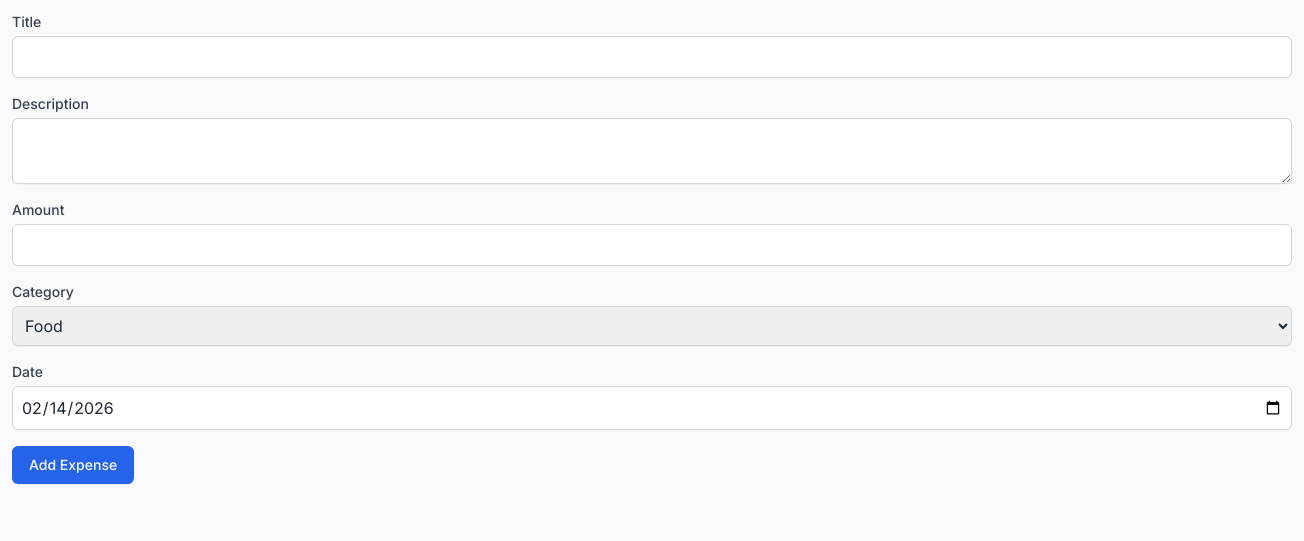
Scenario: ExpenseForm › shows validation errors for invalid input
This screenshot has width=1304, height=541.
Type "abc" into the field labelled "Amount".
click(652, 245); type("abc")  # box [12,224,1292,266]
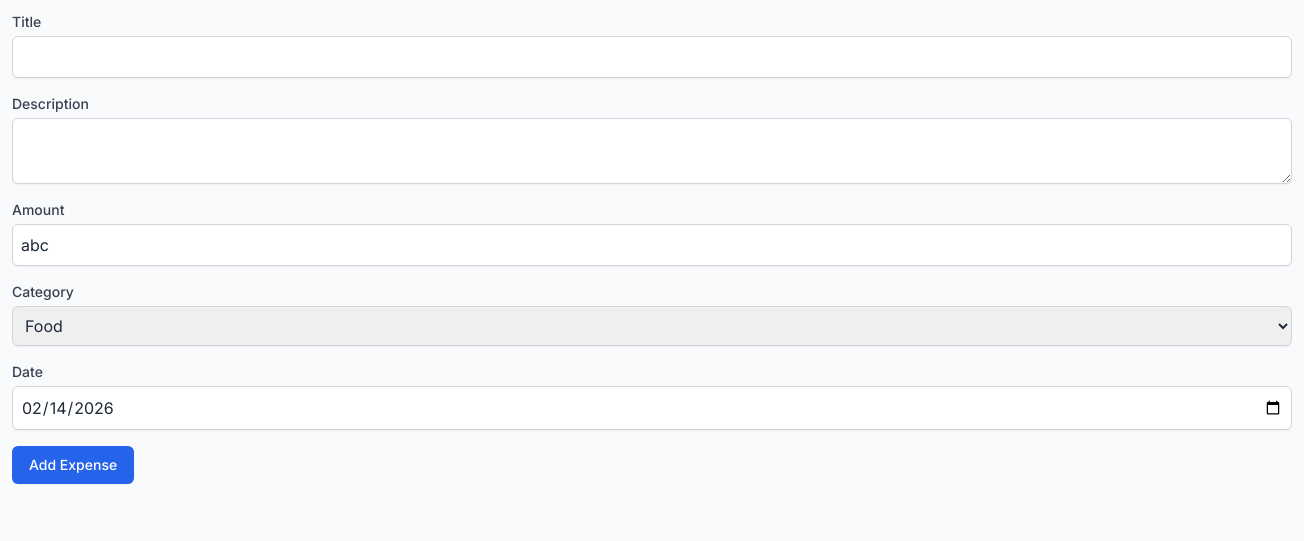
Click the button "Add Expense".
click(73, 465)  # box [12,446,134,484]
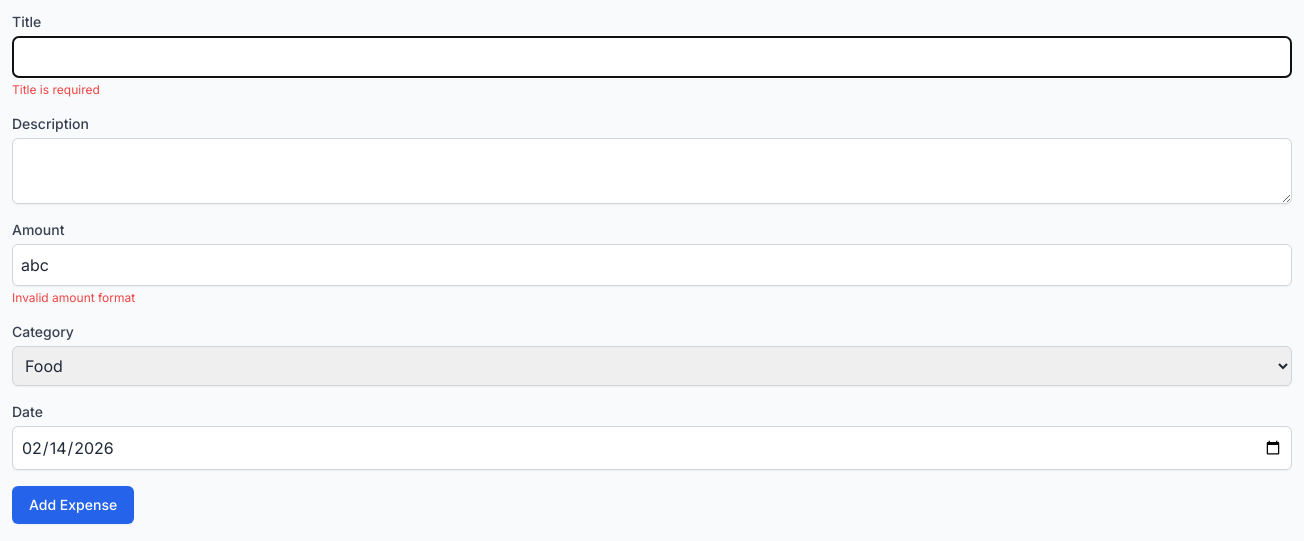
expect the text "Title is required" is shown: met, box [12,82,100,97]
expect the text "Invalid amount format" is shown: met, box [12,290,135,305]
